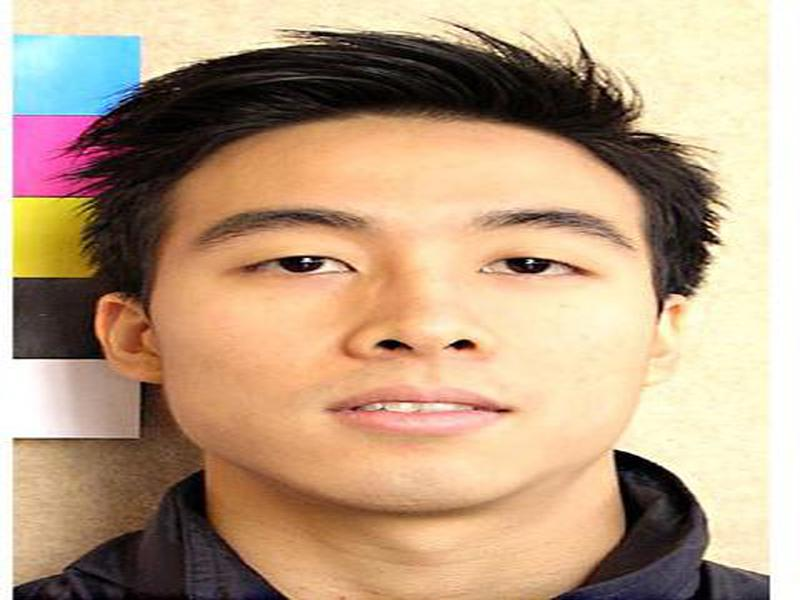without_mask: (146, 134, 644, 516)
